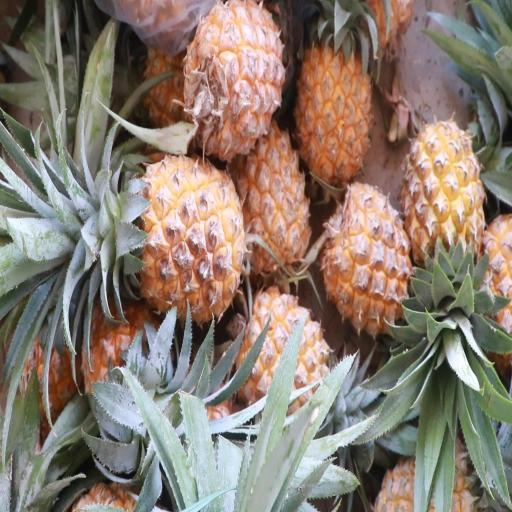Pineapple - v8 v1: (80, 149, 250, 327), (233, 282, 345, 440), (180, 0, 288, 163), (399, 115, 487, 312), (318, 178, 413, 347), (292, 19, 375, 203), (233, 112, 313, 288)
